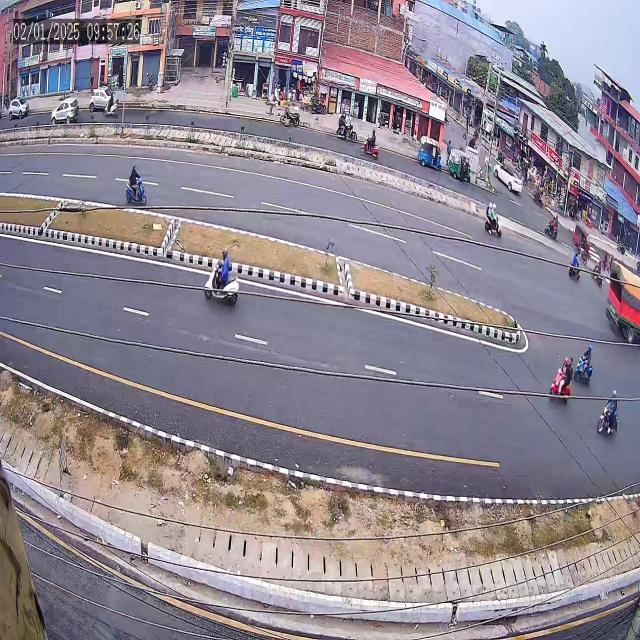motorcycle: (204, 235, 245, 321), (594, 384, 630, 448), (122, 154, 156, 218), (546, 347, 576, 416), (479, 196, 507, 248), (540, 206, 564, 247), (362, 124, 382, 168), (566, 247, 584, 286)
